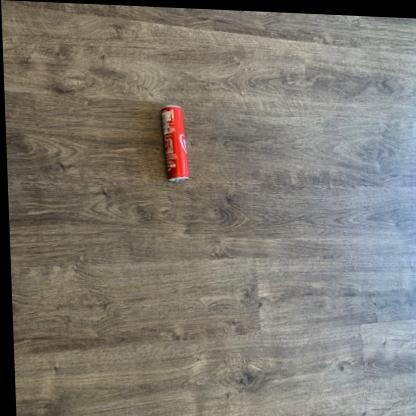trash: (161, 105, 188, 181)
